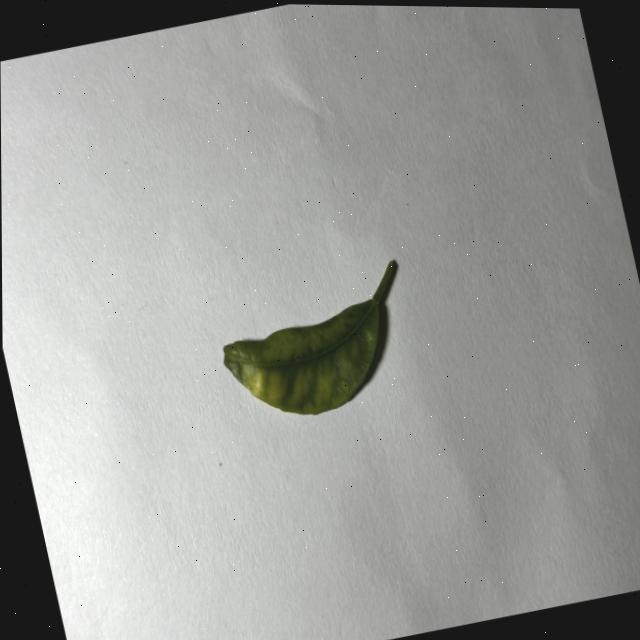greening: (222, 260, 393, 414)
